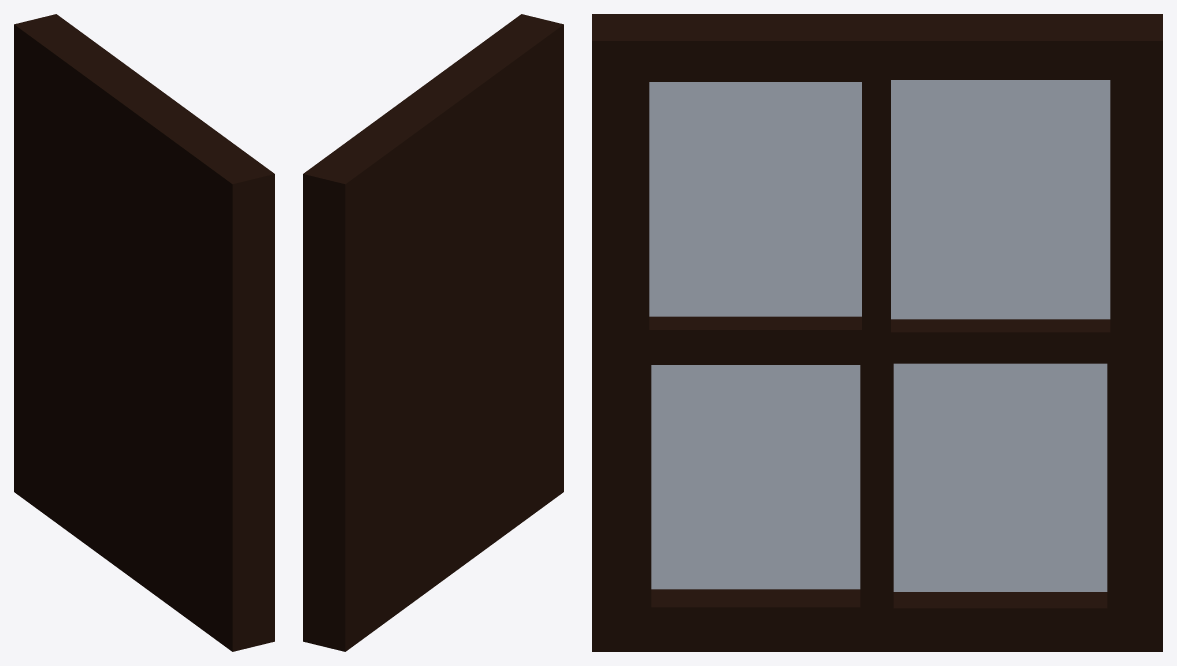
The model's file is Window.fbx.
The picture shows the model from 3 angles, left to right: view 1: azimuth 30°, elevation 25°; view 2: azimuth 150°, elevation 25°; view 3: azimuth 270°, elevation 25°; orthographic projection. The views are drawn at different scales.
Visible parts, largest first — view 1: Cube; view 2: Cube; view 3: Cube.
Part boxes in pixels (x1,y1,x2,y2): Cube: [14, 14, 274, 651]; Cube: [303, 14, 563, 651]; Cube: [592, 14, 1162, 651].
Size of the model in its own units: 52 by 548 by 464.
